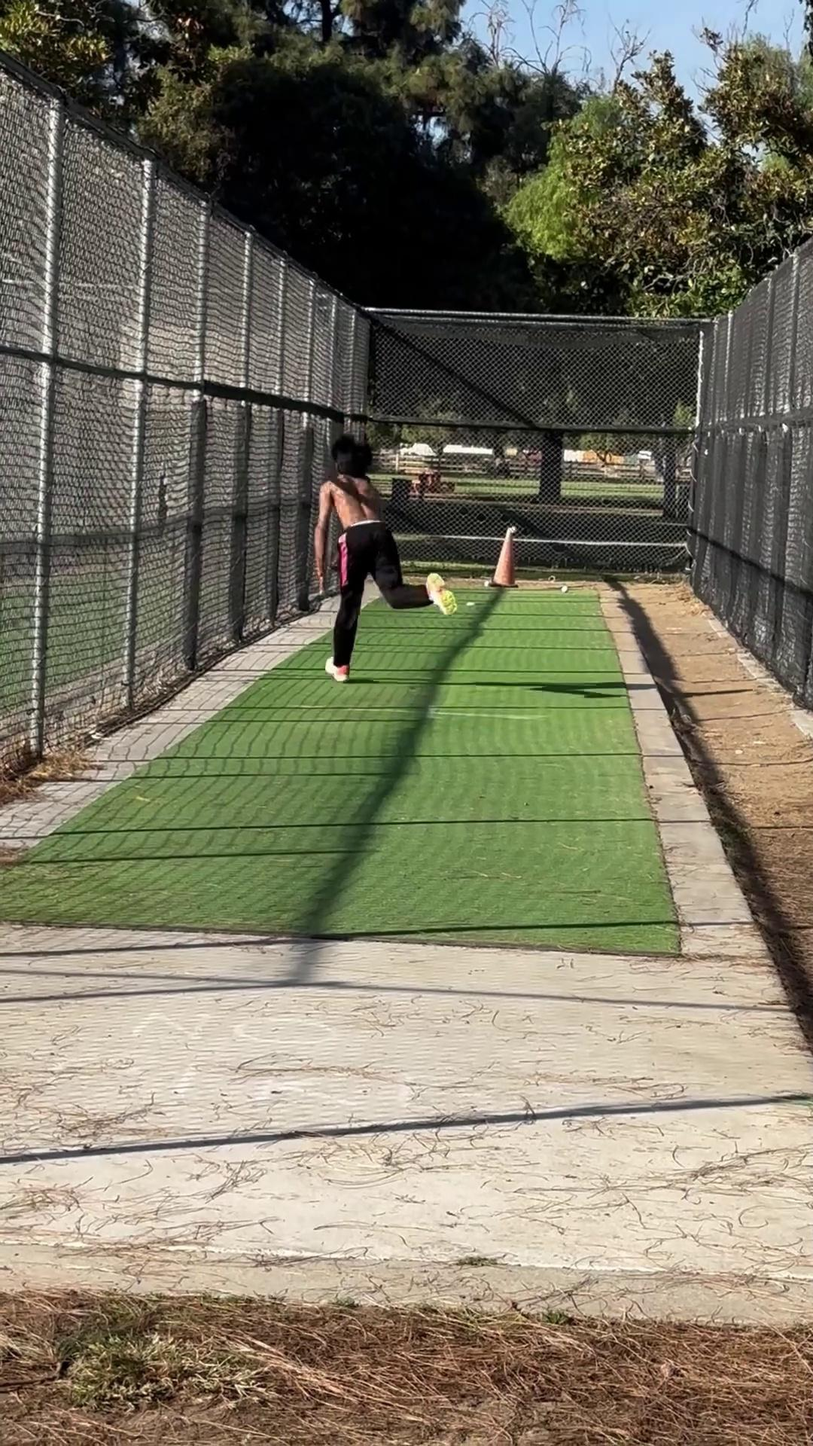ball: (507, 525, 519, 535)
